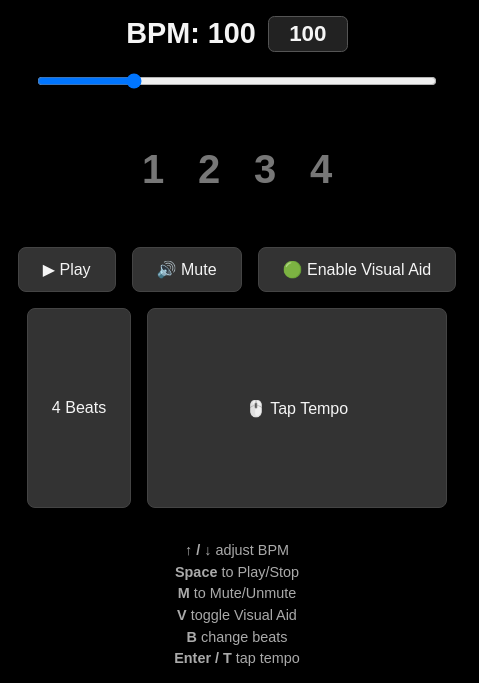
Scenario: App › toggles visual aid when button is clicked
Click the button "🟢 Enable Visual Aid": (357,270) 258,247 -> 456,292
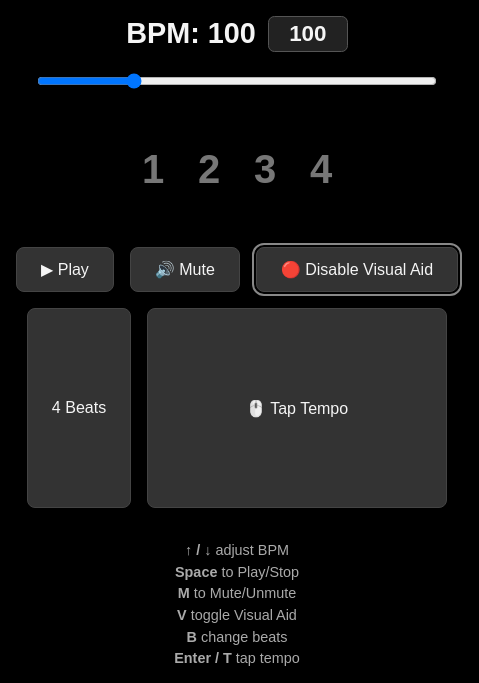
expect the button "🔴 Disable Visual Aid" is shown: met, box 256,247 -> 458,292
